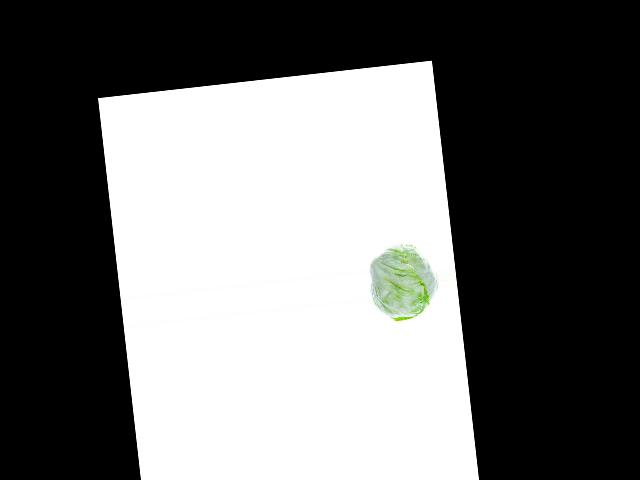lettuce: (369, 241, 440, 321)
